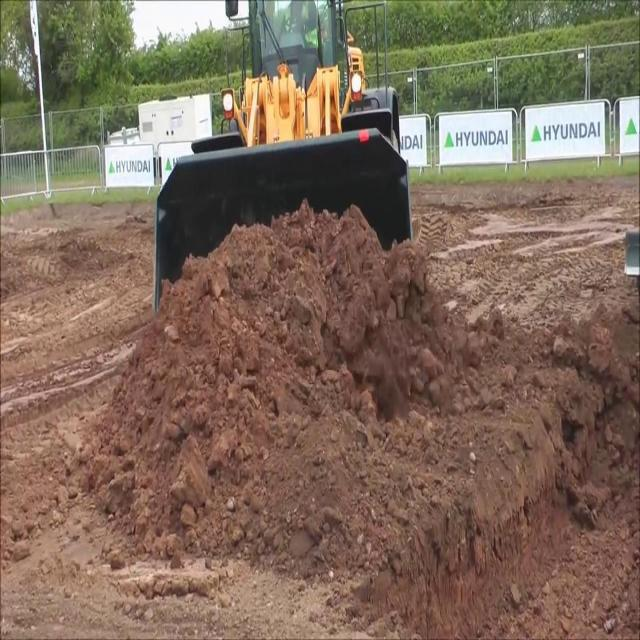Loader: (150, 1, 414, 319)
